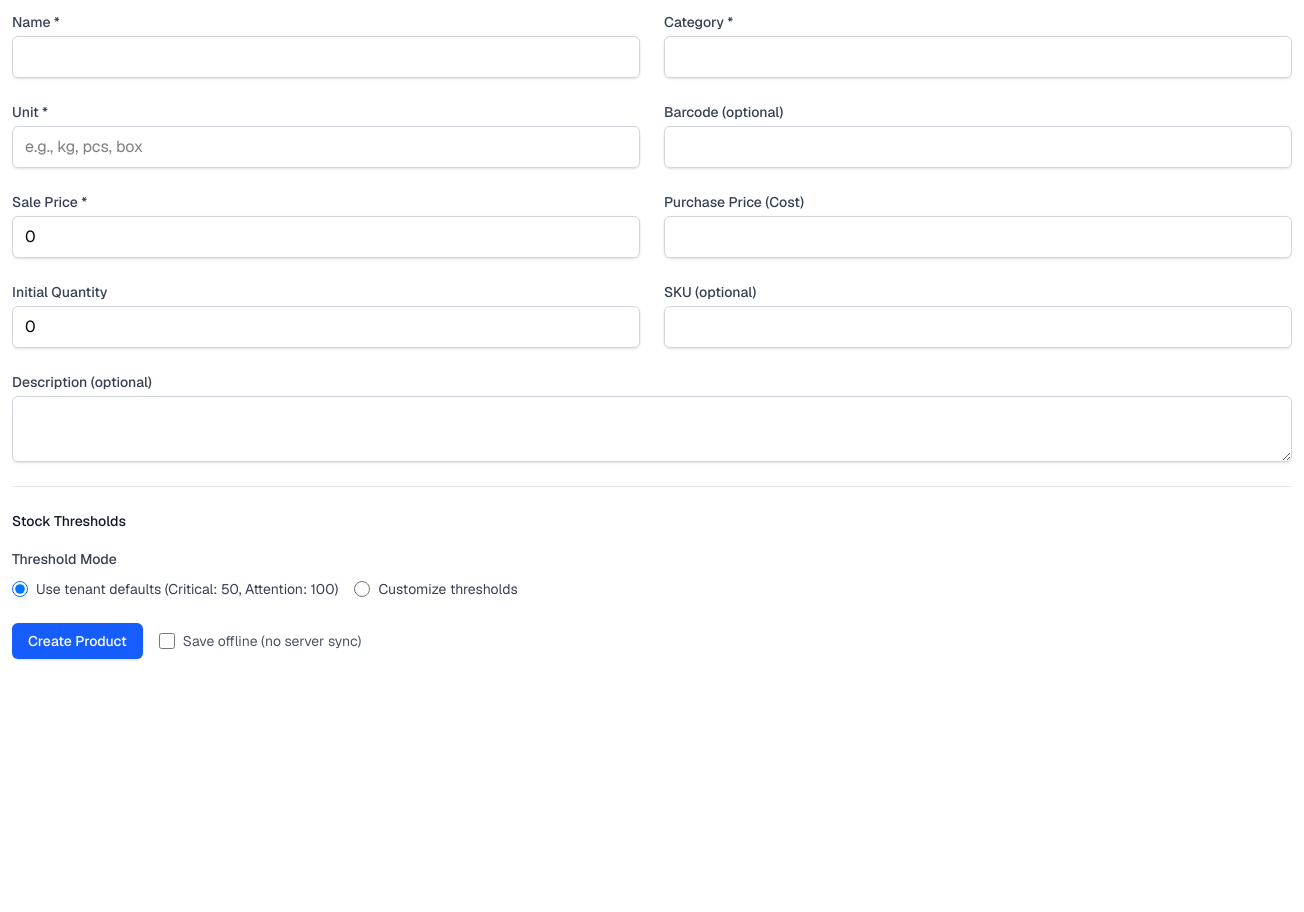
Scenario: product threshold forms › disables create submit when custom thresholds are invalid
Click the radio button labelled "Customize thresholds": x=362, y=589 [354, 581, 370, 597]
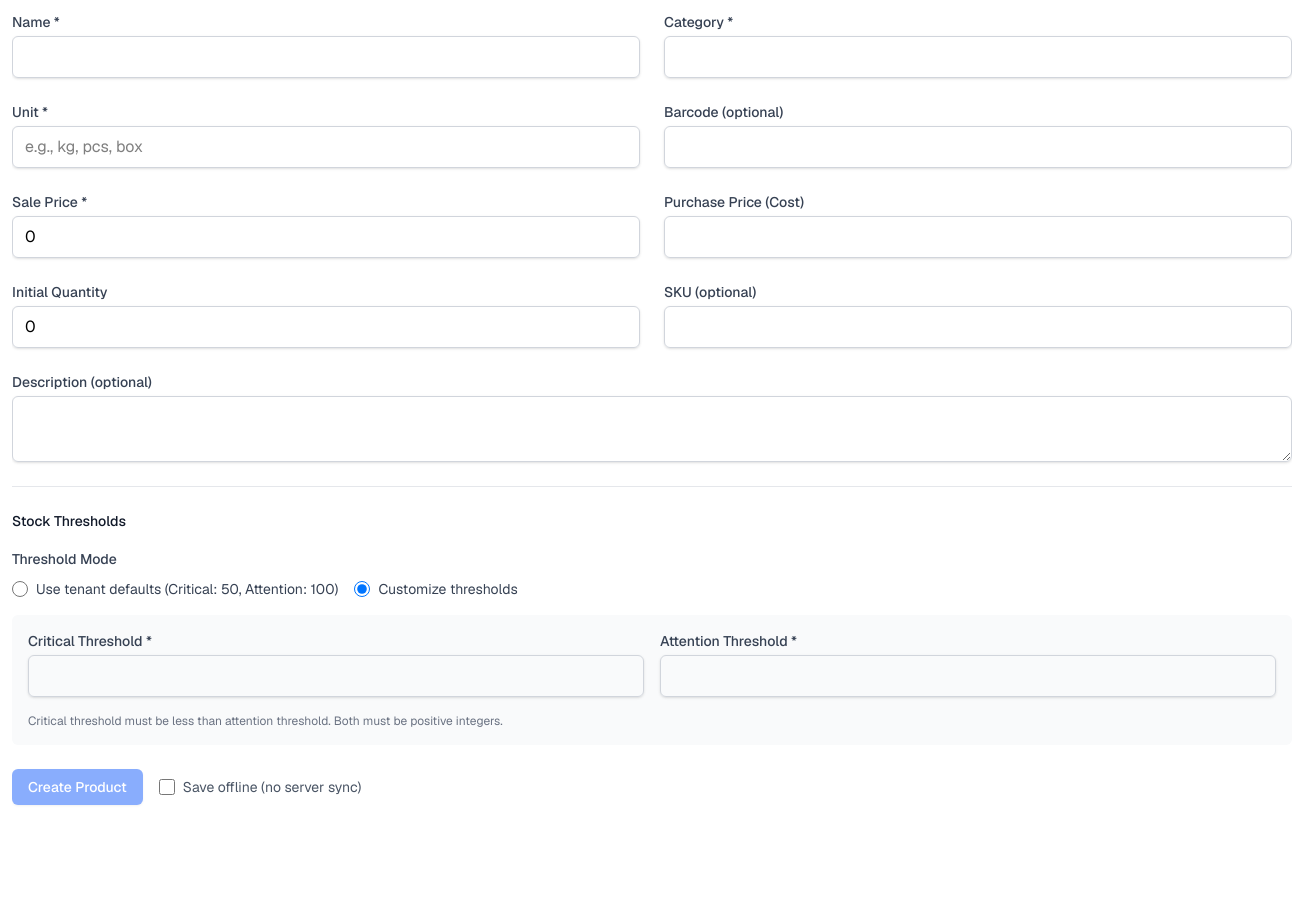
In the number field labelled "Critical Threshold *": x=336, y=676 [28, 655, 644, 697], type "40"
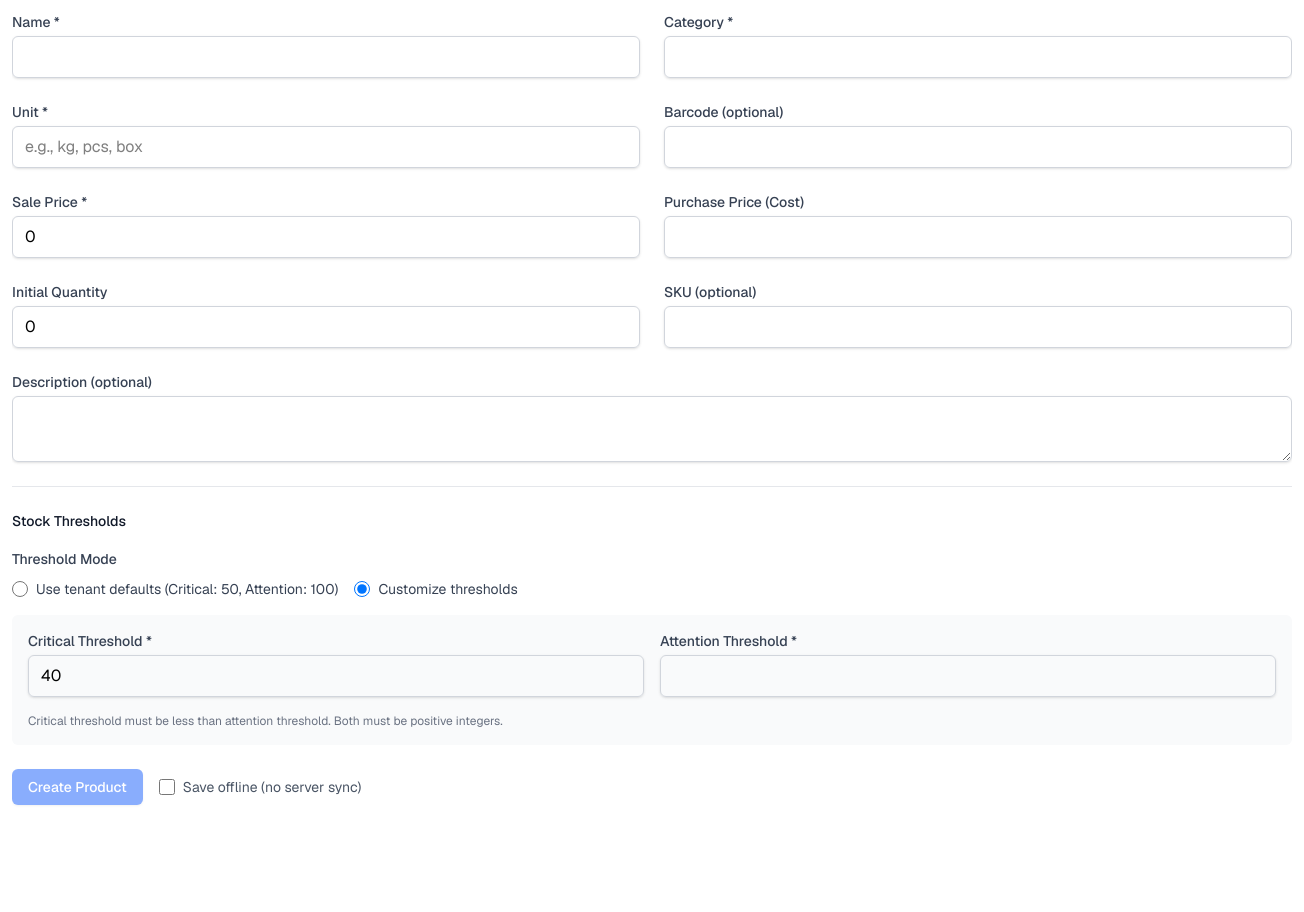
In the number field labelled "Attention Threshold *": x=968, y=676 [660, 655, 1276, 697], type "20"
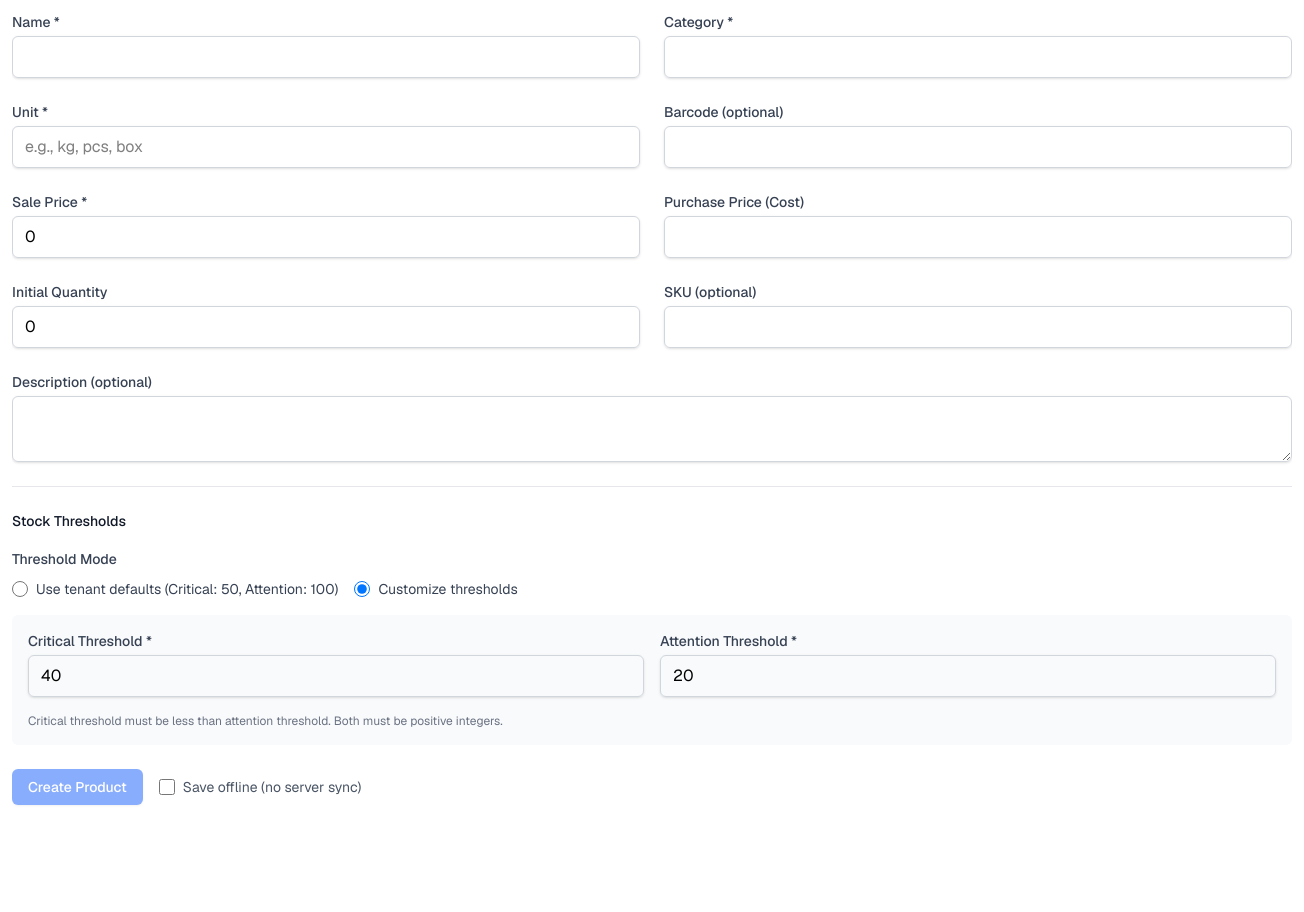
Expected: the button "Create Product" is disabled, [12, 769, 143, 805]
Replace the text in the number field labelled "Attention Threshold *" with "80": x=968, y=676 [660, 655, 1276, 697]
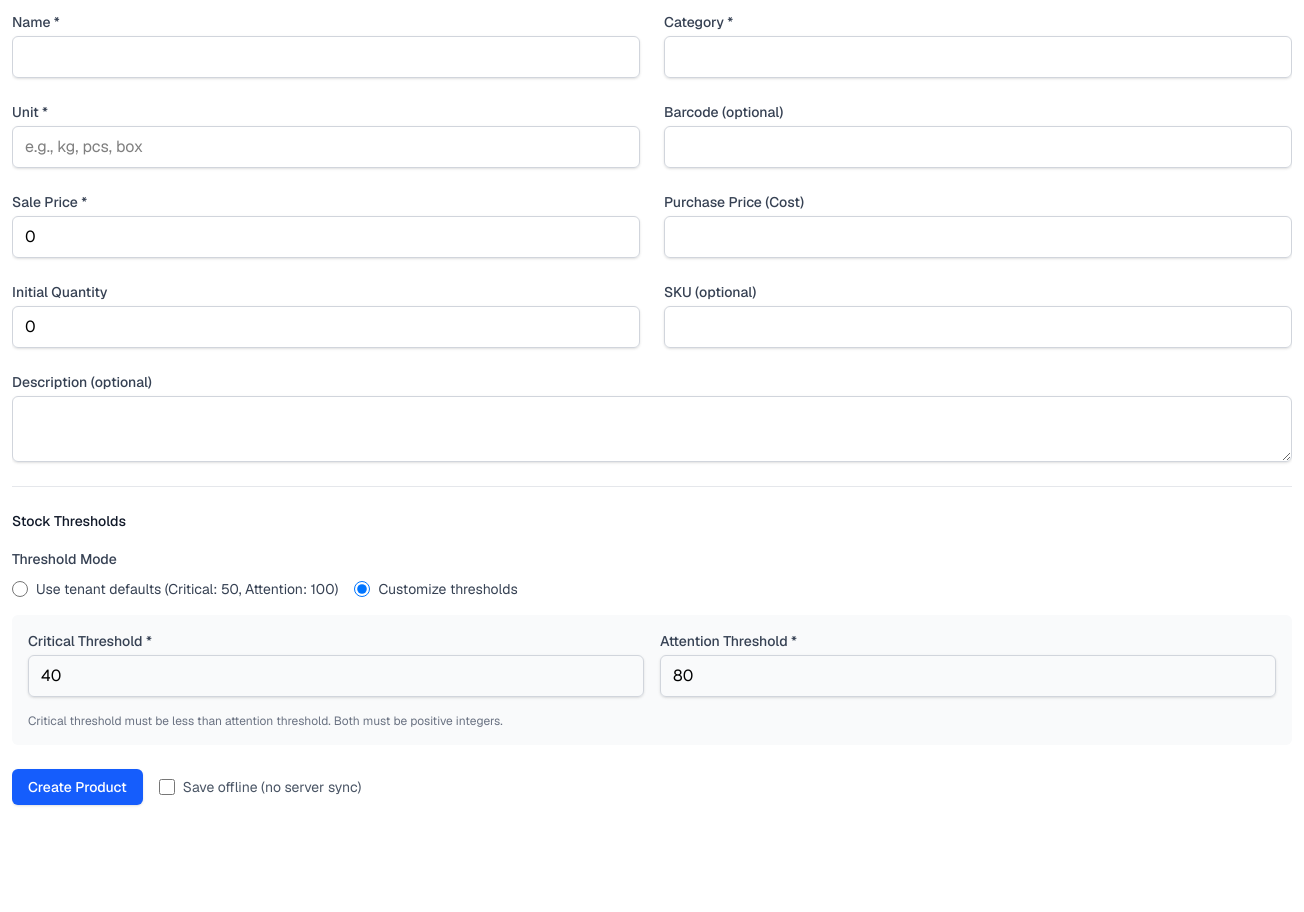
Expected: the button "Create Product" is enabled, [12, 769, 143, 805]
